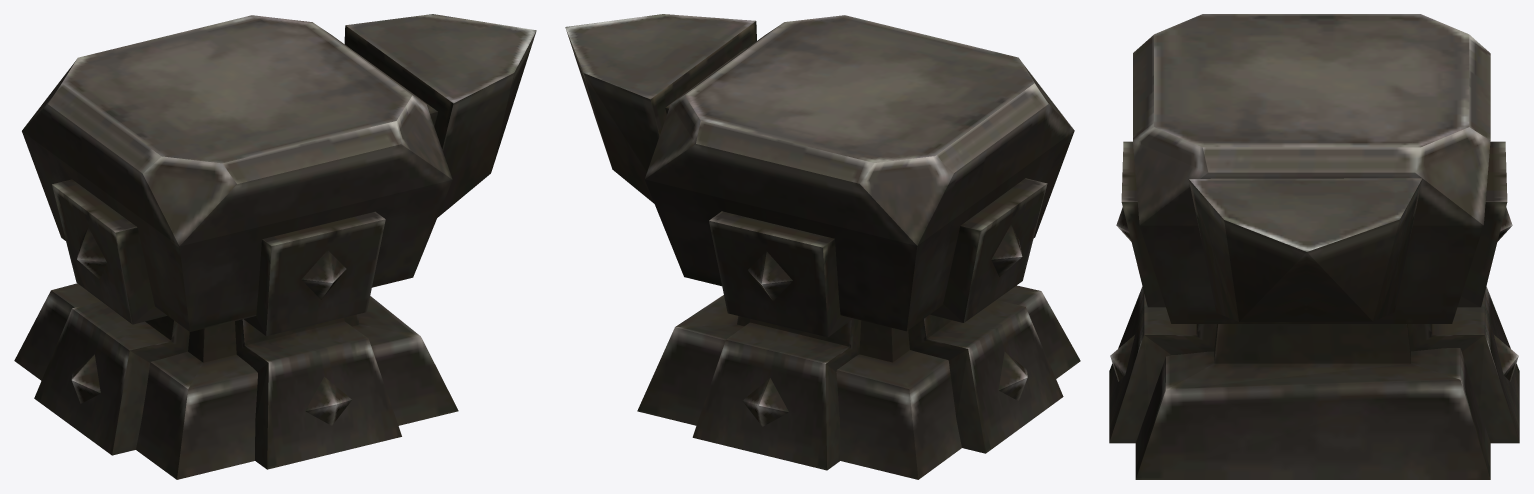
Rendered from bandit_anvil_01.fbx.
The picture shows the model from 3 angles, left to right: view 1: azimuth 30°, elevation 25°; view 2: azimuth 150°, elevation 25°; view 3: azimuth 270°, elevation 25°; orthographic projection. The views are drawn at different scales.
Parts seen in each view (by area): view 1: obj0.569; view 2: obj0.569; view 3: obj0.569.
Boxes of the visible parts, left/top/right/bottom form: obj0.569: left=14, top=14, right=536, bottom=479; obj0.569: left=565, top=14, right=1080, bottom=479; obj0.569: left=1109, top=14, right=1519, bottom=479.
Size of the model in its own units: 1.37 by 0.8377 by 0.9612.
